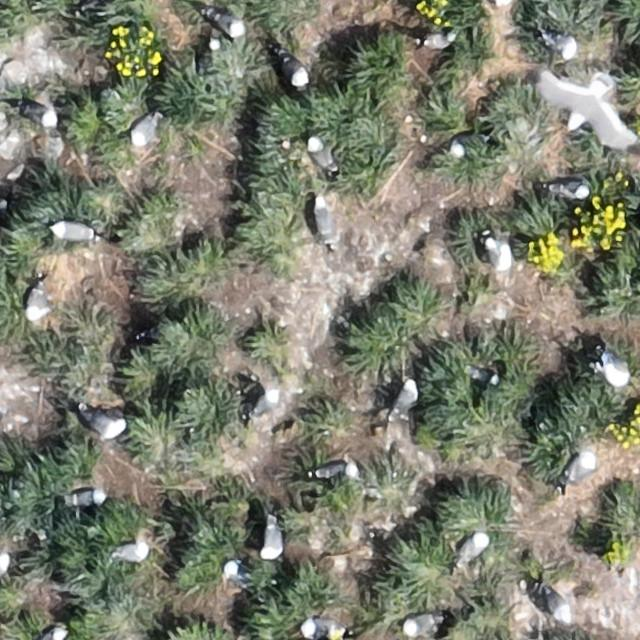F: (549, 70, 628, 151)
umineko: (309, 189, 339, 247), (82, 407, 133, 441), (208, 11, 246, 36), (567, 454, 596, 484), (459, 533, 488, 562), (283, 55, 309, 86), (130, 116, 156, 146), (308, 141, 332, 172), (303, 618, 342, 637), (604, 358, 630, 386), (20, 105, 54, 126), (403, 614, 435, 636), (51, 222, 90, 240), (546, 591, 569, 621), (396, 382, 417, 414), (115, 541, 148, 561), (264, 524, 282, 560), (548, 35, 577, 57), (254, 390, 278, 416), (26, 286, 45, 318), (556, 182, 589, 200), (72, 490, 104, 507), (317, 463, 351, 479), (423, 32, 452, 49), (486, 239, 502, 269), (469, 368, 496, 385), (450, 137, 472, 157), (225, 563, 245, 583), (38, 626, 65, 639), (0, 550, 8, 575)
